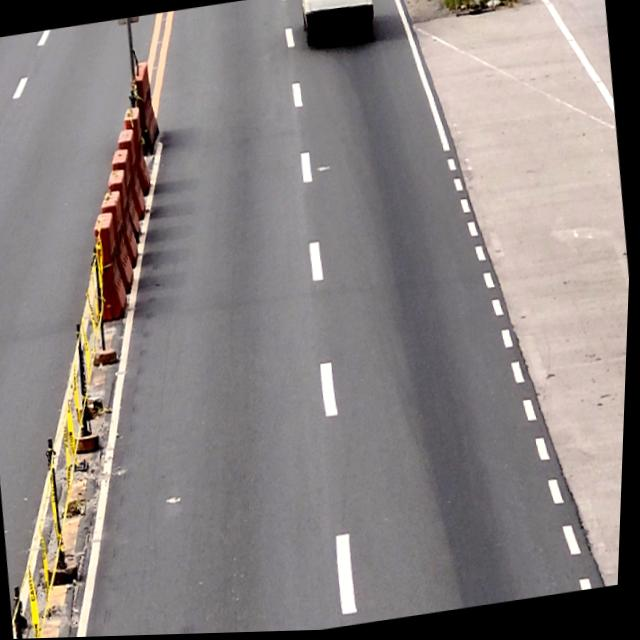Car: (297, 0, 379, 47)
